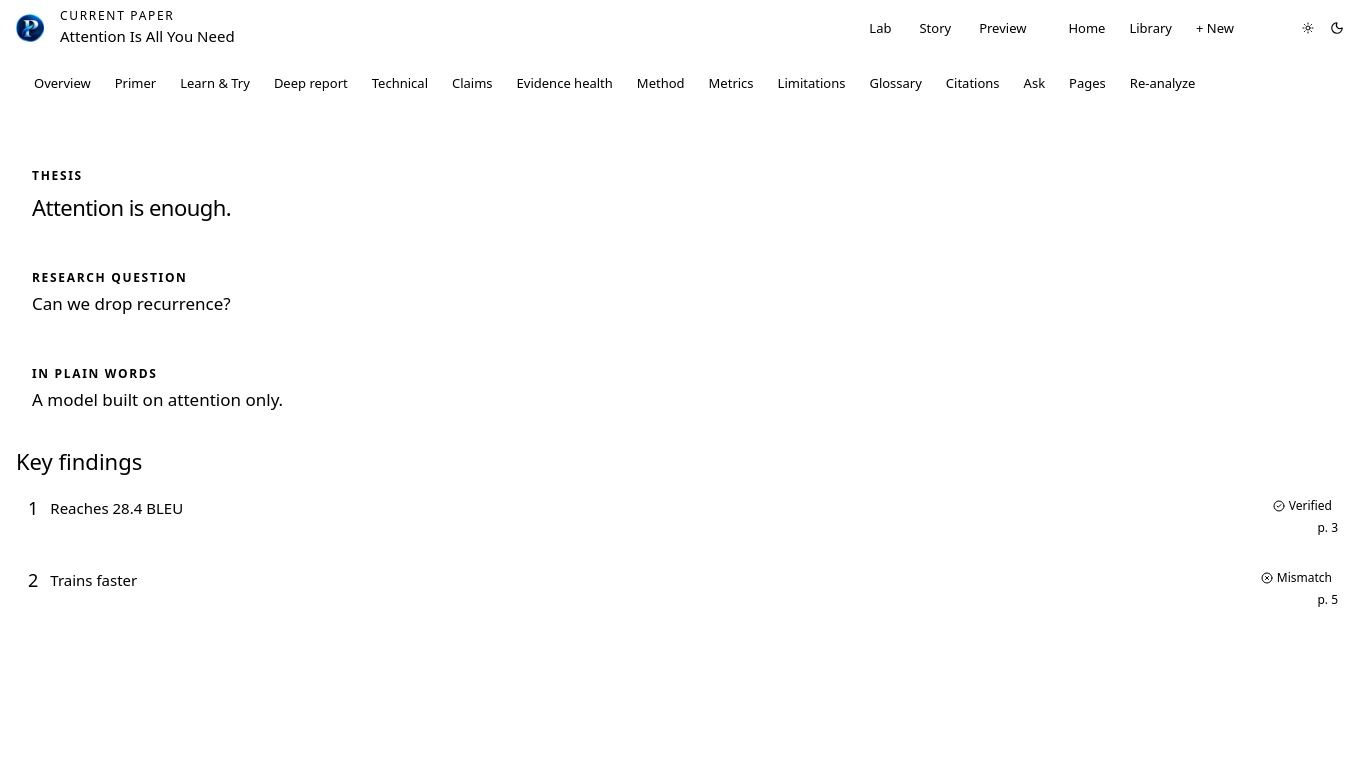
Test: Lab › shows the overview with thesis, question and numbered findings that open the drawer
This screenshot has width=1366, height=768.
Expected: the element named "Studio mode" is shown, [853,13,1042,43]
Expected: the text "Attention is enough." is shown, [32,192,231,222]
Click the button "1 Reaches 28.4 BLEU Verified p. 3" at (117,508), box [16,484,1350,548]
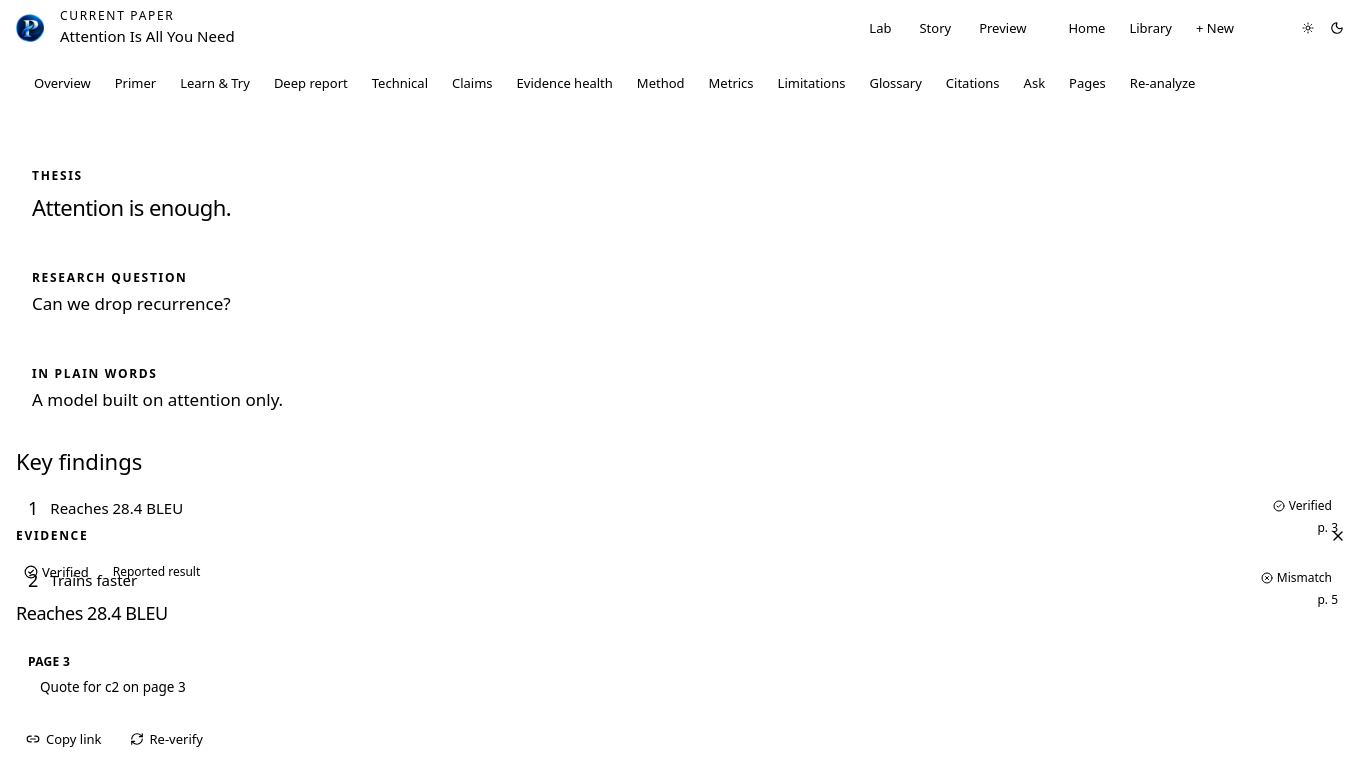
Expected: the heading "Reaches 28.4 BLEU" is shown, [16,601,168,625]
Expected: the text "Quote for c2 on page 3" is shown, [40,678,186,696]
